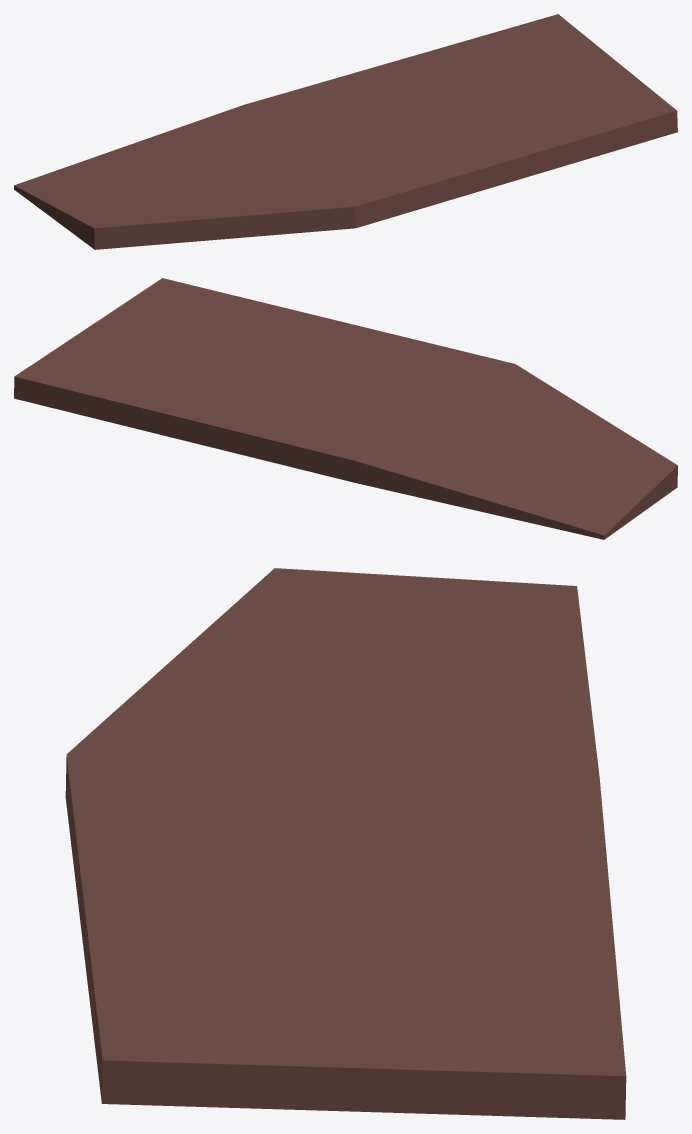
File: Volet.fbx
3 views of the same model, one above another, from view 1: azimuth 30°, elevation 25°; view 2: azimuth 150°, elevation 25°; view 3: azimuth 270°, elevation 25° (orthographic). The views are drawn at different scales.
Visible parts, largest first — view 1: Volet.006; view 2: Volet.006; view 3: Volet.006.
Boxes of the visible parts, <box> form: Volet.006: <box>14,14,677,249</box>; Volet.006: <box>14,278,677,539</box>; Volet.006: <box>65,568,626,1119</box>.
Bounding box in the file's own units: 242 × 16.14 × 105.
